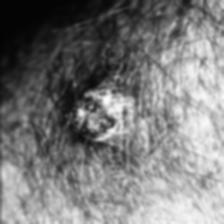Potentially Malignant Skin Tumors: (64, 80, 134, 142)
